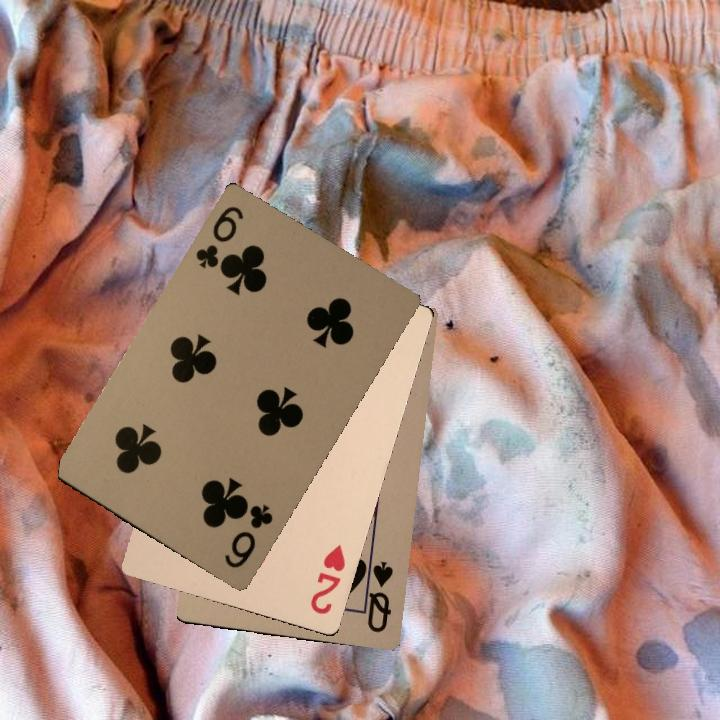2h: (306, 540, 348, 617)
6c: (191, 201, 246, 275), (220, 500, 276, 571)
Qs: (359, 553, 396, 635)
